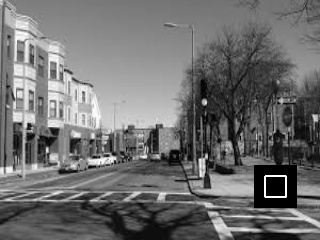square: (254, 164, 297, 208)
